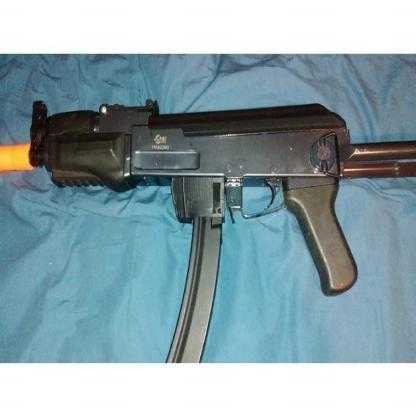Gun: (27, 75, 414, 371)
